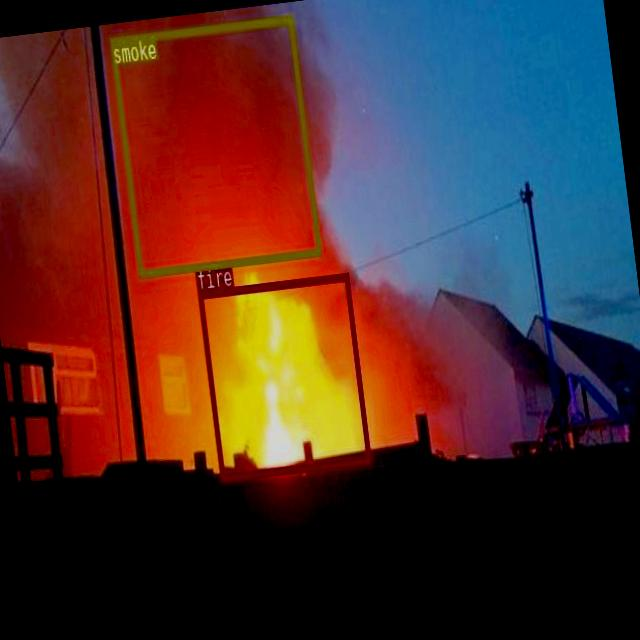fire: (197, 272, 370, 479)
smoke: (109, 13, 320, 276)
